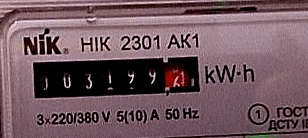0: (36, 71, 49, 93), (59, 69, 72, 90)
1: (103, 66, 114, 86)
3: (81, 70, 93, 90)
6: (170, 73, 181, 89)
9: (124, 65, 136, 86), (145, 65, 157, 85)
screen: (24, 45, 209, 113)
